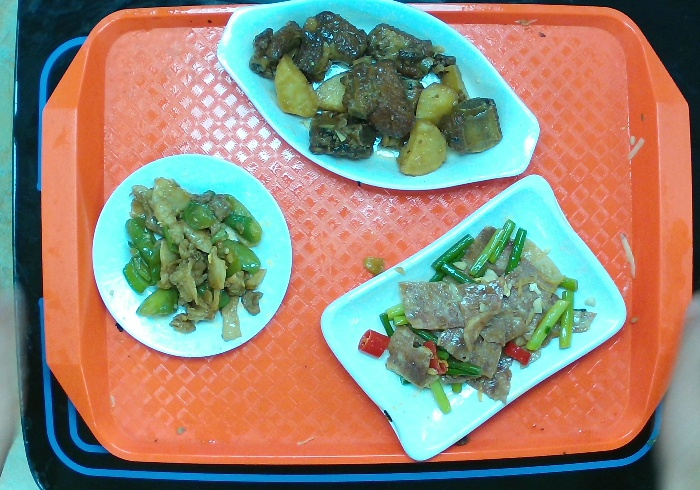RJxy-Si_Fang_Ao_Bian_Wan: (318, 172, 628, 461)
RJxy-Xiao_Yuan_Die: (90, 152, 294, 360)
RJxy-Yu_Pan: (214, 1, 542, 192)
